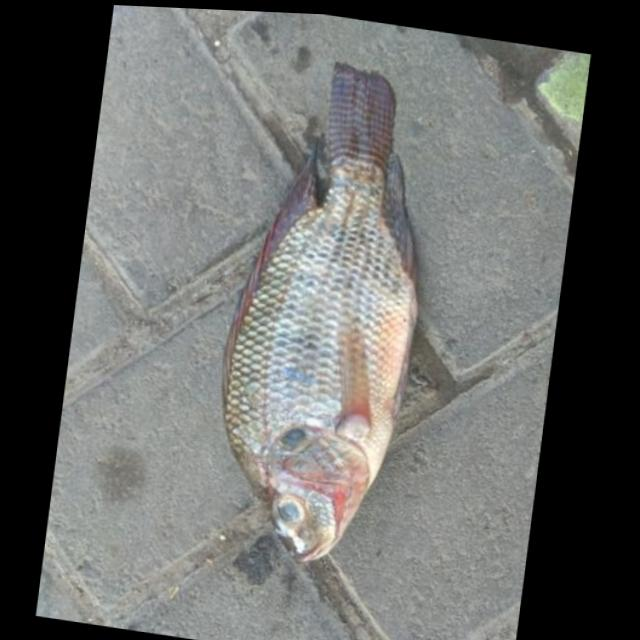Tilapia: (200, 46, 444, 575)
